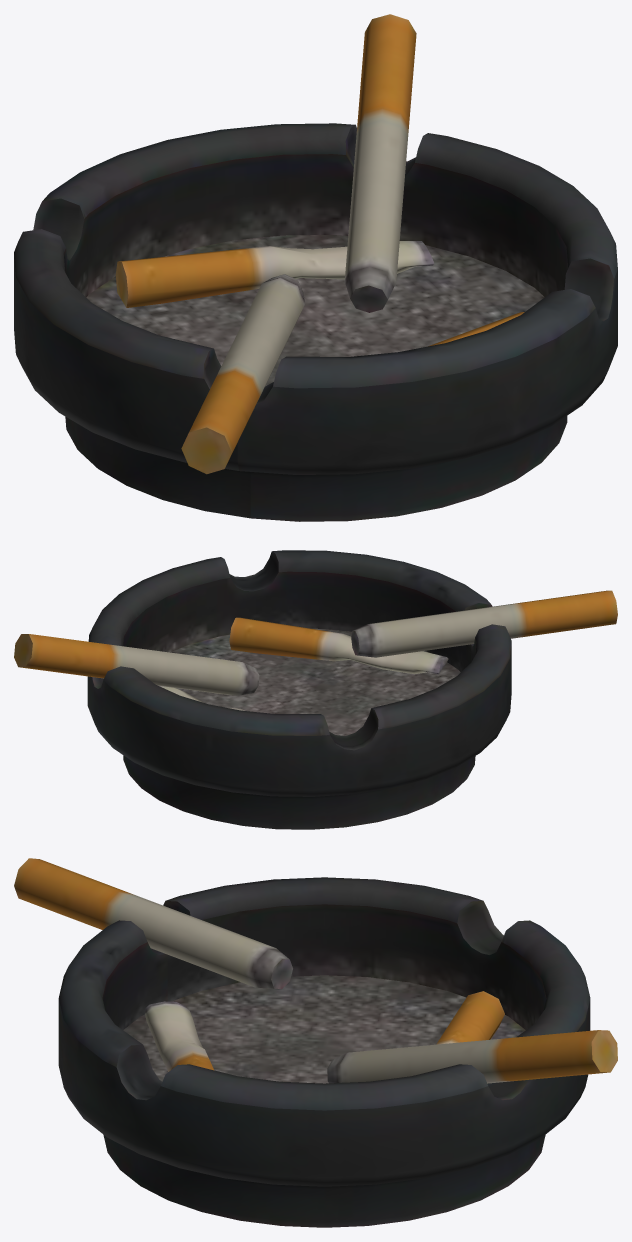
The model's file is ashtrayblack_c.glb.
3 views of the same model, one above another, from view 1: azimuth 30°, elevation 25°; view 2: azimuth 150°, elevation 25°; view 3: azimuth 270°, elevation 25° (orthographic). The views are drawn at different scales.
Visible parts, largest first — view 1: AshtrayBlack_c; view 2: AshtrayBlack_c; view 3: AshtrayBlack_c.
Boxes of the visible parts, x1=… form: AshtrayBlack_c: x1=14, y1=14, x2=617, y2=521; AshtrayBlack_c: x1=14, y1=550, x2=617, y2=829; AshtrayBlack_c: x1=14, y1=858, x2=617, y2=1227.
Size of the model in its own units: 0.1464 by 0.0581 by 0.1567.
1 material, 1 textured.
